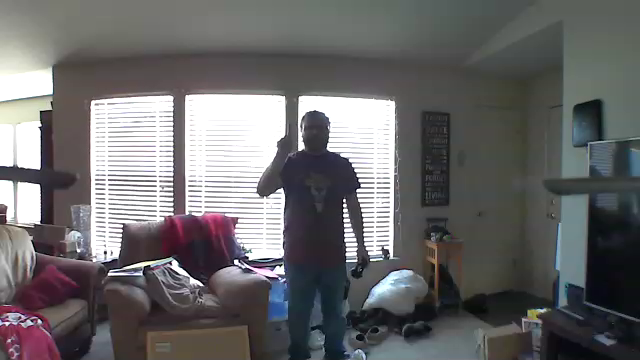up: (270, 120, 295, 157)
